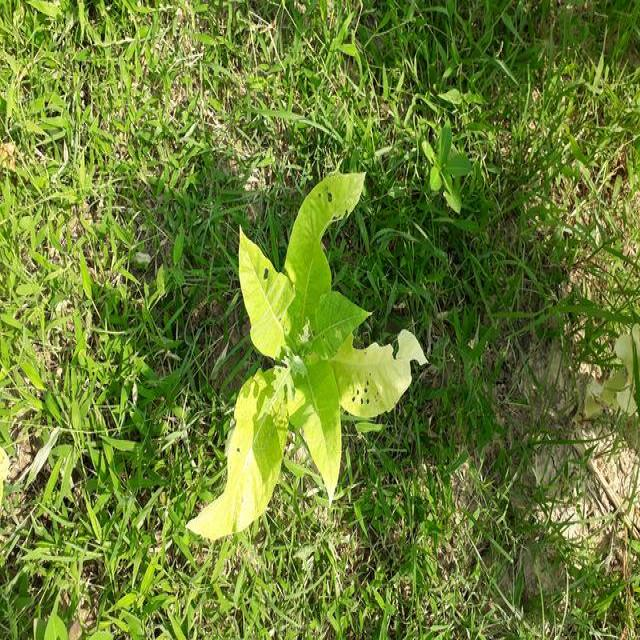crop: (186, 170, 422, 546)
